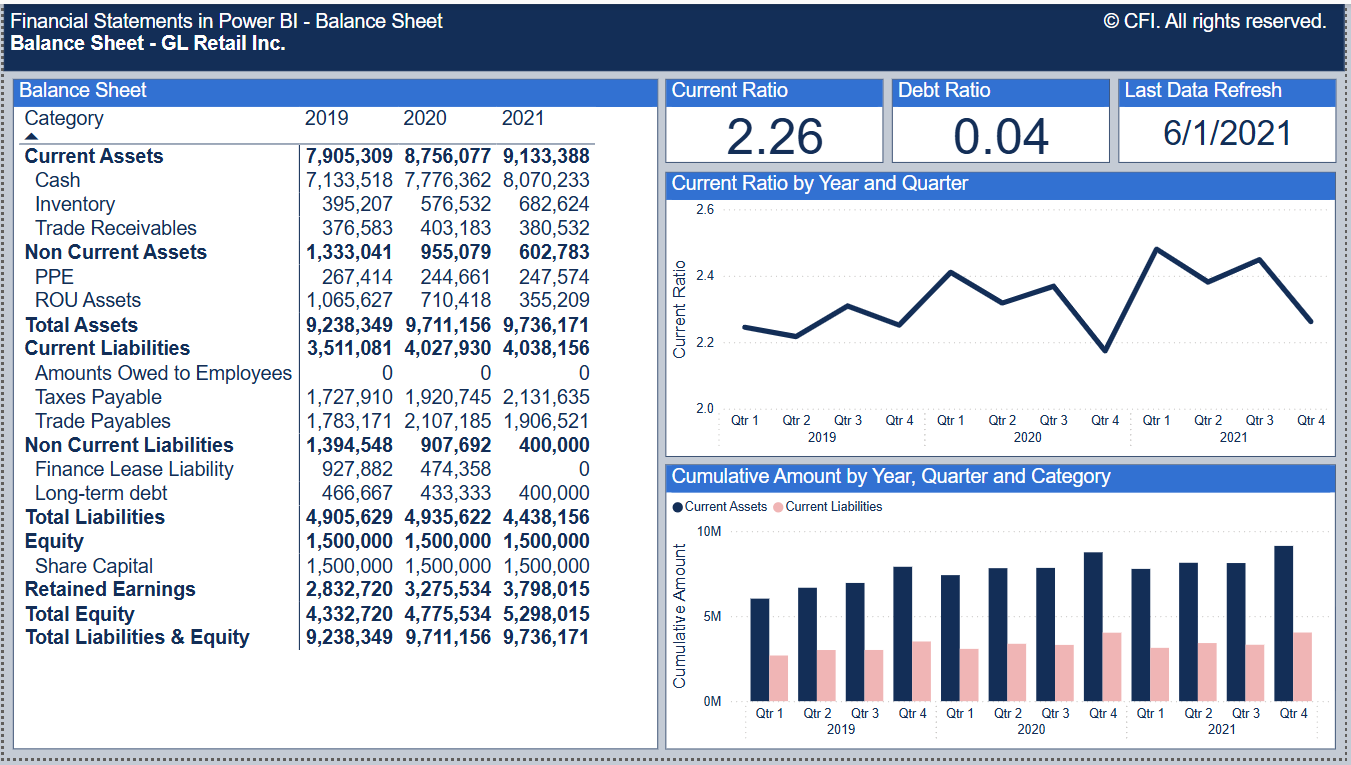

The page's visual inventory and layout, read from the dashboard file:
{"tool":"powerbi","page":{"name":"Balance Sheet","canvas":[1280,720],"ordinal":1},"visuals":[{"type":"shape","box":[0,0,1280,64],"z":0},{"type":"pivotTable","title":"Balance Sheet","fields":{"Rows":["Headers.Category","GLAccts.Subcategory"],"Columns":["DimDate.Year"],"Values":["FactGLTran.Balance Sheet"]},"box":[8,72,616,640],"z":1000},{"type":"card","title":"Current Ratio","fields":{"Values":["FactGLTran.Current Ratio"]},"box":[632,72,208,80],"z":2000},{"type":"card","title":"Debt Ratio","fields":{"Values":["FactGLTran.Debt Ratio"]},"box":[848,72,208,80],"z":3000},{"type":"card","title":"Last Data Refresh","fields":{"Values":["Min(LastDataRefresh.LastDataRefresh)"]},"box":[976,576,296,80],"z":4000},{"type":"lineChart","fields":{"Category":["DimDate.Date.Variation.Date Hierarchy.Year","DimDate.Date.Variation.Date Hierarchy.Quarter","DimDate.Date.Variation.Date Hierarchy.Month","DimDate.Date.Variation.Date Hierarchy.Day"],"Y":["FactGLTran.Current Ratio"]},"box":[632,160,640,272],"z":5000},{"type":"lineClusteredColumnComboChart","fields":{"Category":["DimDate.Date.Variation.Date Hierarchy.Year","DimDate.Date.Variation.Date Hierarchy.Quarter","DimDate.Date.Variation.Date Hierarchy.Month","DimDate.Date.Variation.Date Hierarchy.Day"],"Series":["DimHeaders.Category"],"Y":["FactGLTran.Cumulative Amount"]},"box":[632,440,640,272],"z":6000},{"type":"textbox","box":[0,0,1280,64],"z":7000},{"type":"card","title":"Last Data Refresh","fields":{"Values":["Min(LastDataRefresh.LastDataRefresh)"]},"box":[1064,72,208,80],"z":8000}]}

Visuals, with their boxes in screenshot pixels (x1, y1, x2, y2), scaled from the page's 1280x720 canvas onto the 1351x765 screenshot:
shape: <box>0,0,1350,68</box>
"Balance Sheet" pivotTable: <box>8,76,659,756</box>
"Current Ratio" card: <box>667,76,887,162</box>
"Debt Ratio" card: <box>895,76,1115,162</box>
"Last Data Refresh" card: <box>1030,612,1343,697</box>
lineChart - DimDate.Date.Variation.Date Hierarchy.Year x DimDate.Date.Variation.Date Hierarchy.Quarter: <box>667,170,1343,459</box>
lineClusteredColumnComboChart - DimDate.Date.Variation.Date Hierarchy.Year x DimDate.Date.Variation.Date Hierarchy.Quarter: <box>667,468,1343,756</box>
textbox: <box>0,0,1350,68</box>
"Last Data Refresh" card: <box>1123,76,1343,162</box>
